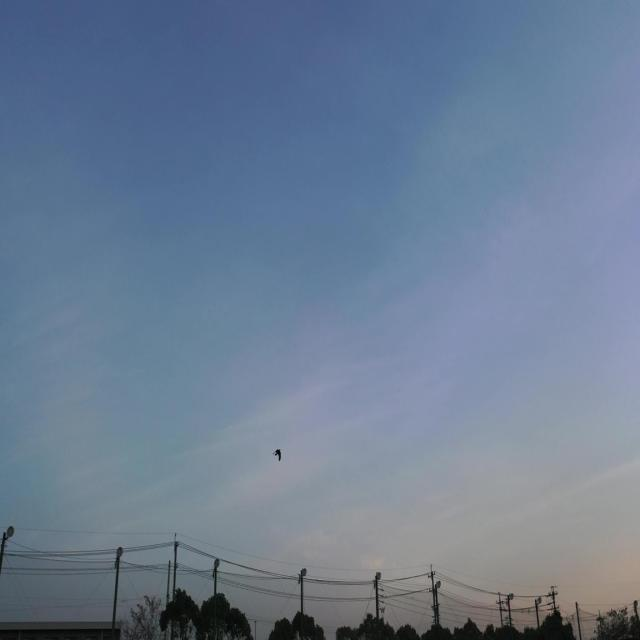Birds: (270, 440, 286, 462)
